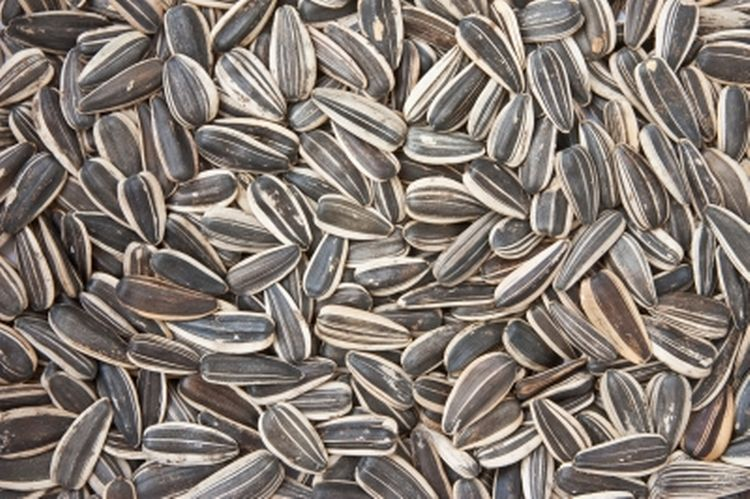seed: (1, 1, 750, 499)
